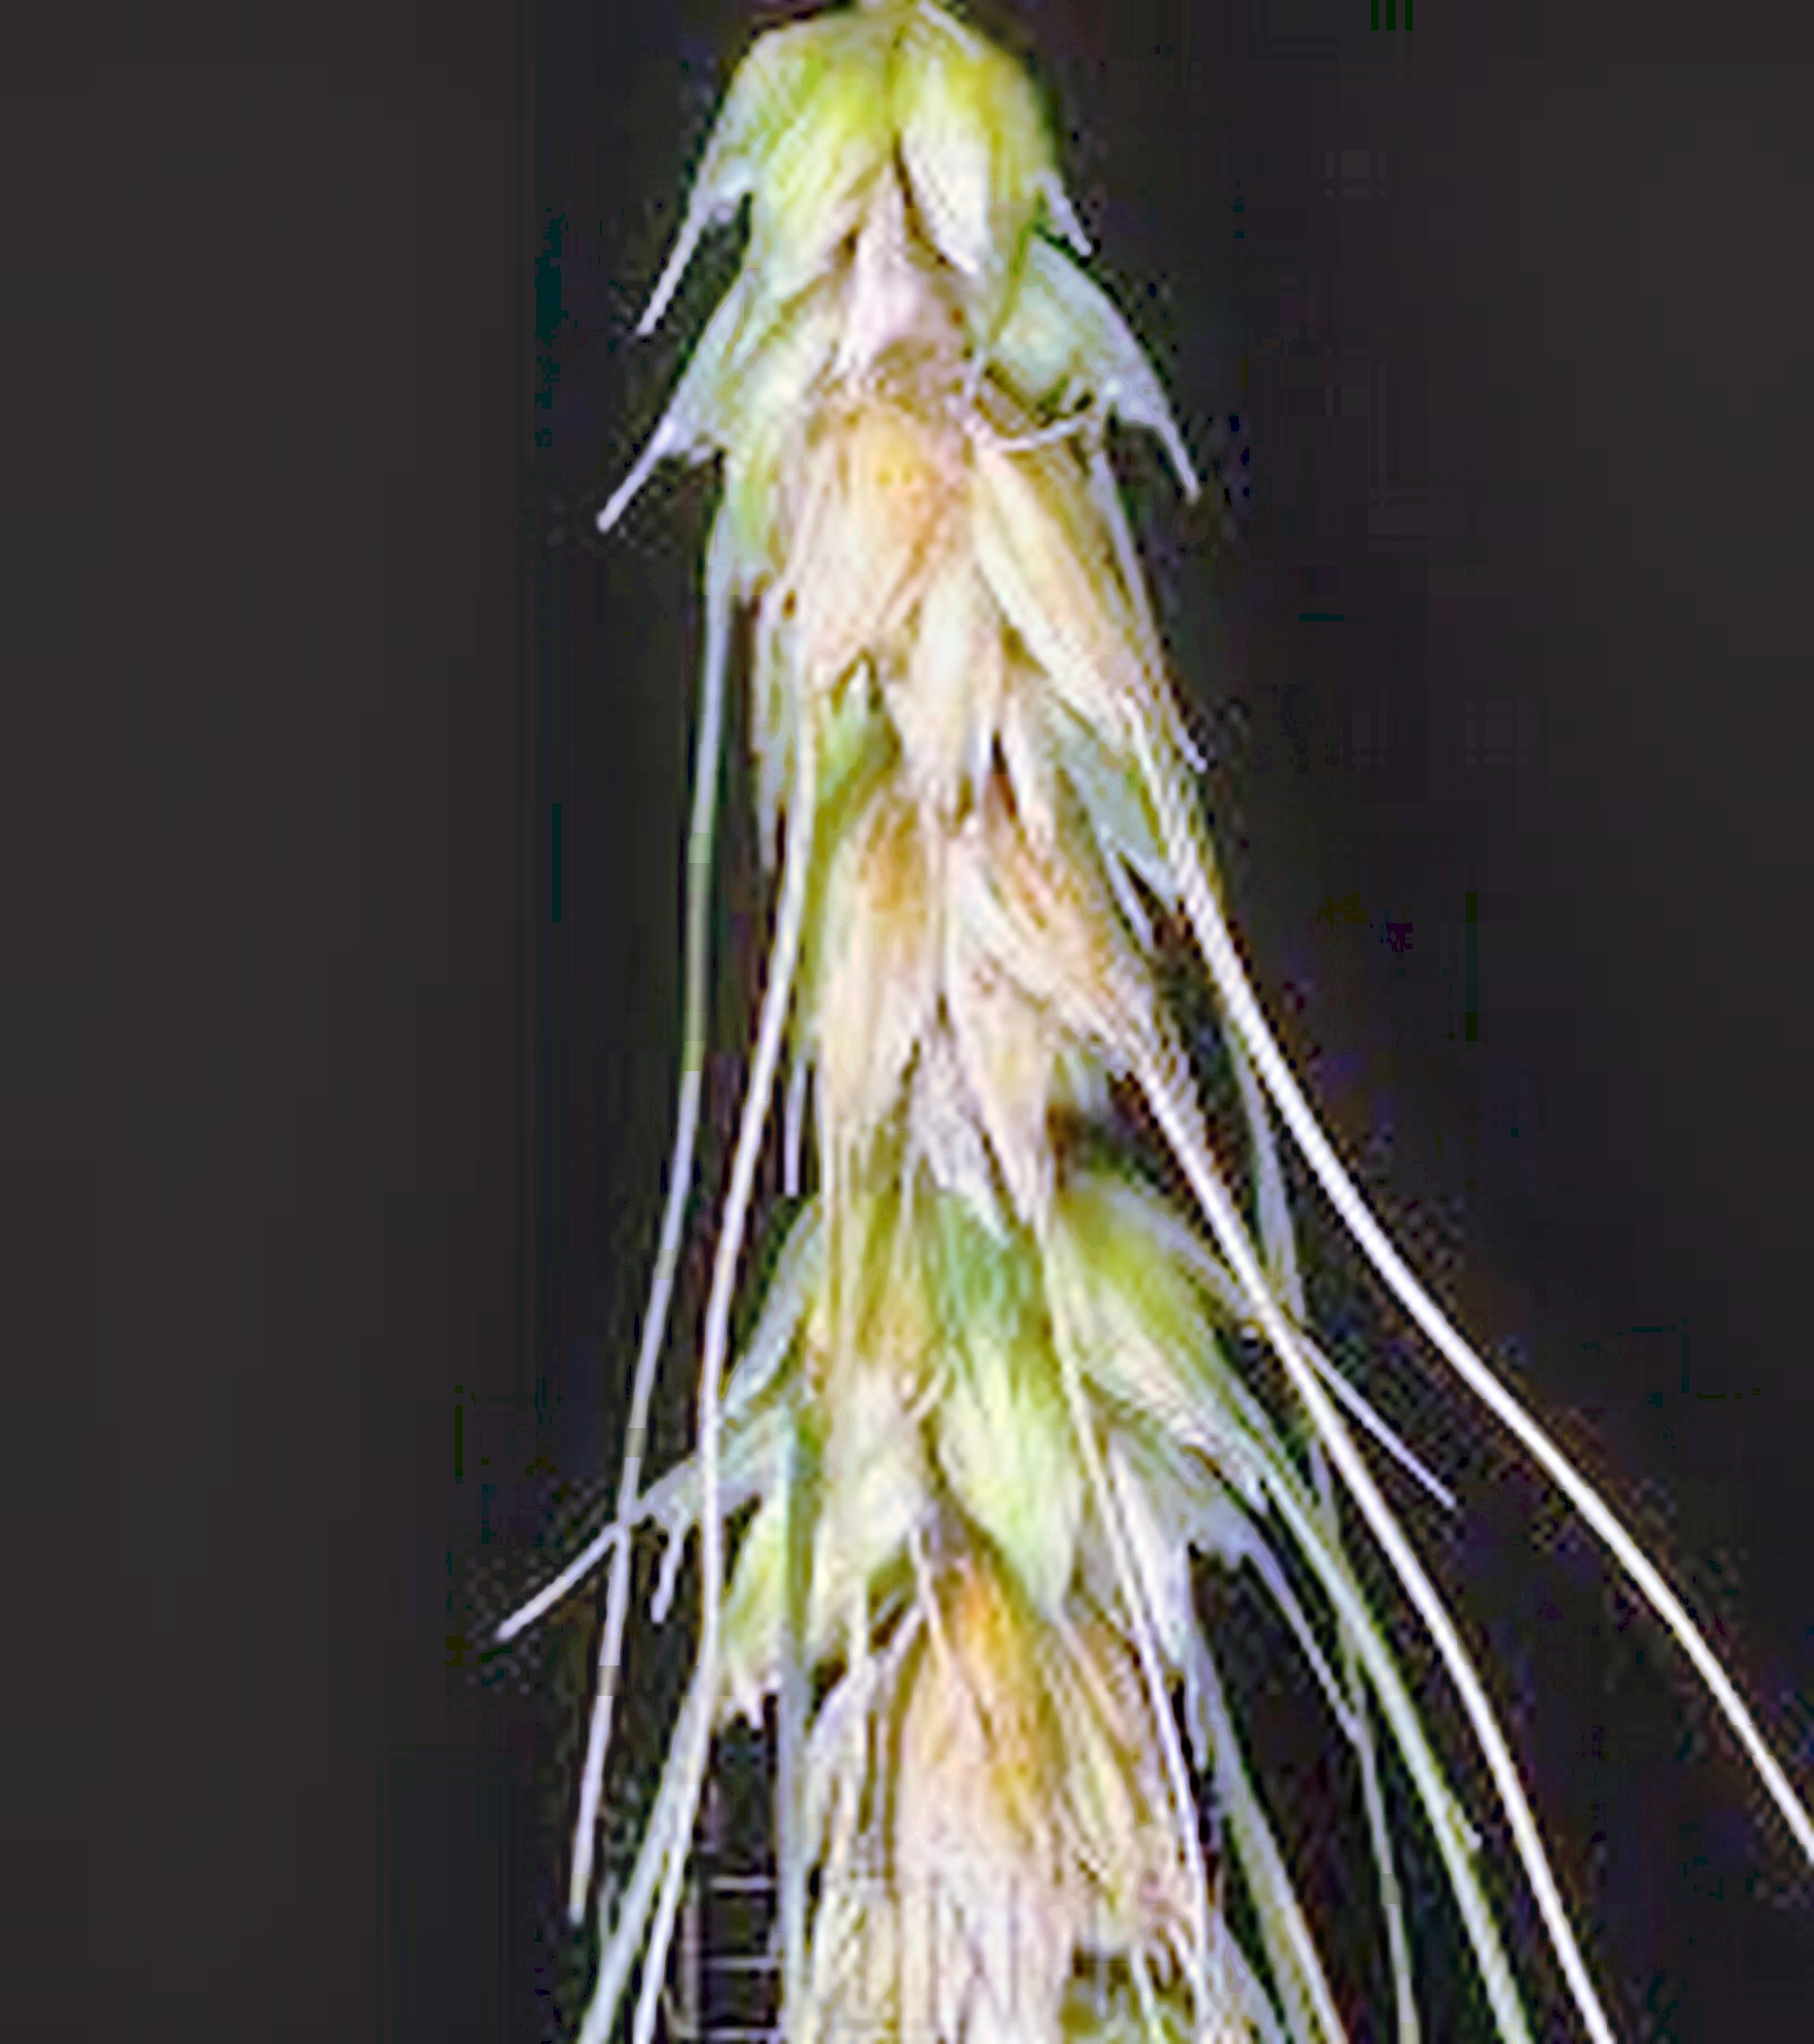Wheat scab: (632, 16, 1334, 2030)
